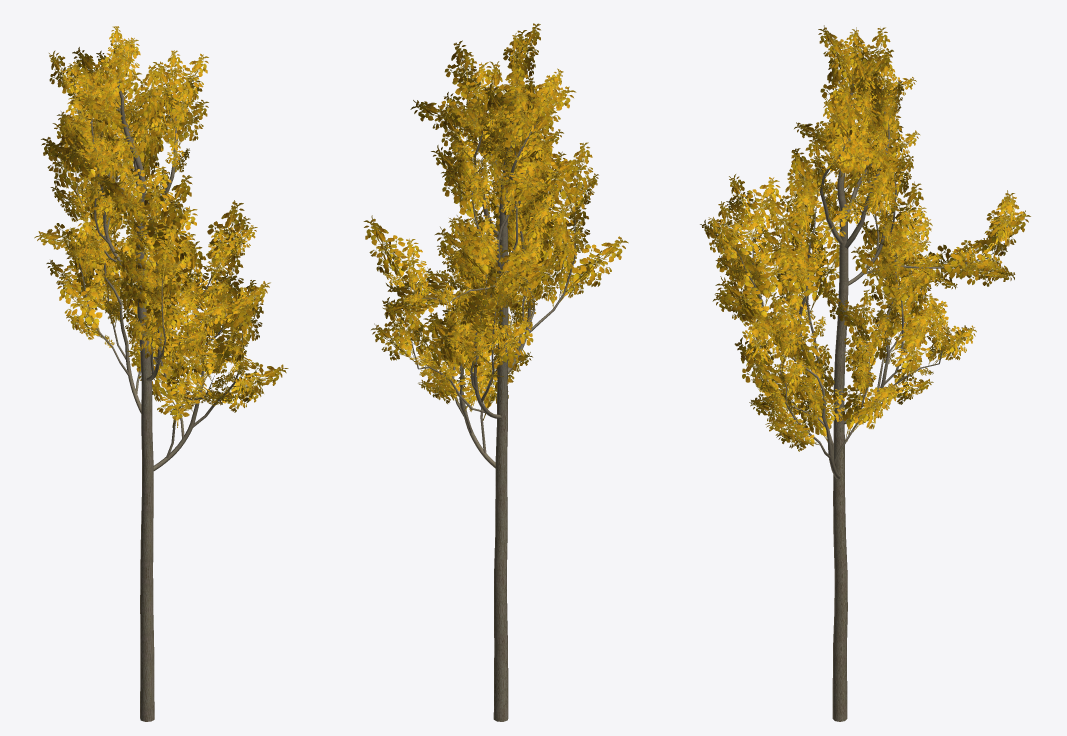
The model's file is aspen_small_02.glb.
3 renders of one model, left to right at view 1: azimuth 30°, elevation 25°; view 2: azimuth 150°, elevation 25°; view 3: azimuth 270°, elevation 25°, orthographic. The views are drawn at different scales.
Visible parts, largest first — view 1: Tree; view 2: Tree; view 3: Tree.
Boxes of the visible parts, box(x1,y1,x2,y2) form: Tree: box(34, 26, 288, 721); Tree: box(363, 23, 628, 721); Tree: box(700, 25, 1030, 721).
Size of the model in its own units: 12.85 by 38.16 by 18.52.
2 materials, 2 textured.
